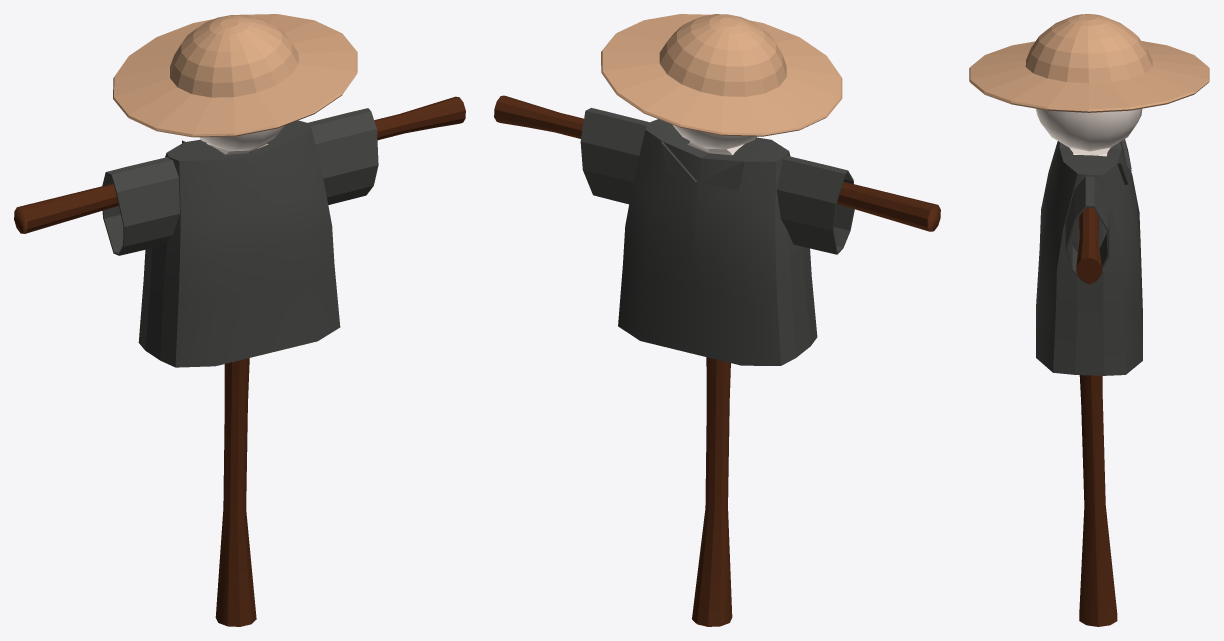
The model's file is Epouvantail.fbx.
The picture shows the model from 3 angles, left to right: view 1: azimuth 30°, elevation 25°; view 2: azimuth 150°, elevation 25°; view 3: azimuth 270°, elevation 25°; orthographic projection.
Visible parts, largest first — view 1: Plane004, Cylinder021, Cylinder019, Cylinder020, Box001; view 2: Plane004, Cylinder021, Cylinder019, Cylinder020, Box001; view 3: Plane004, Cylinder021, Cylinder019, Box001, Cylinder020.
Boxes of the visible parts, x1,y1,x2,y2 form: Plane004: [102, 108, 378, 367]; Cylinder021: [113, 14, 357, 137]; Cylinder019: [215, 151, 256, 626]; Cylinder020: [14, 96, 465, 233]; Box001: [199, 125, 284, 154]; Plane004: [580, 108, 854, 365]; Cylinder021: [601, 14, 842, 136]; Cylinder019: [692, 357, 732, 626]; Cylinder020: [494, 95, 940, 231]; Box001: [673, 125, 756, 155]; Plane004: [1036, 139, 1142, 375]; Cylinder021: [969, 14, 1209, 112]; Cylinder019: [1079, 375, 1117, 626]; Box001: [1036, 108, 1142, 156]; Cylinder020: [1076, 207, 1101, 284].
Size of the model in its own units: 0.1207 by 0.1586 by 0.058.
